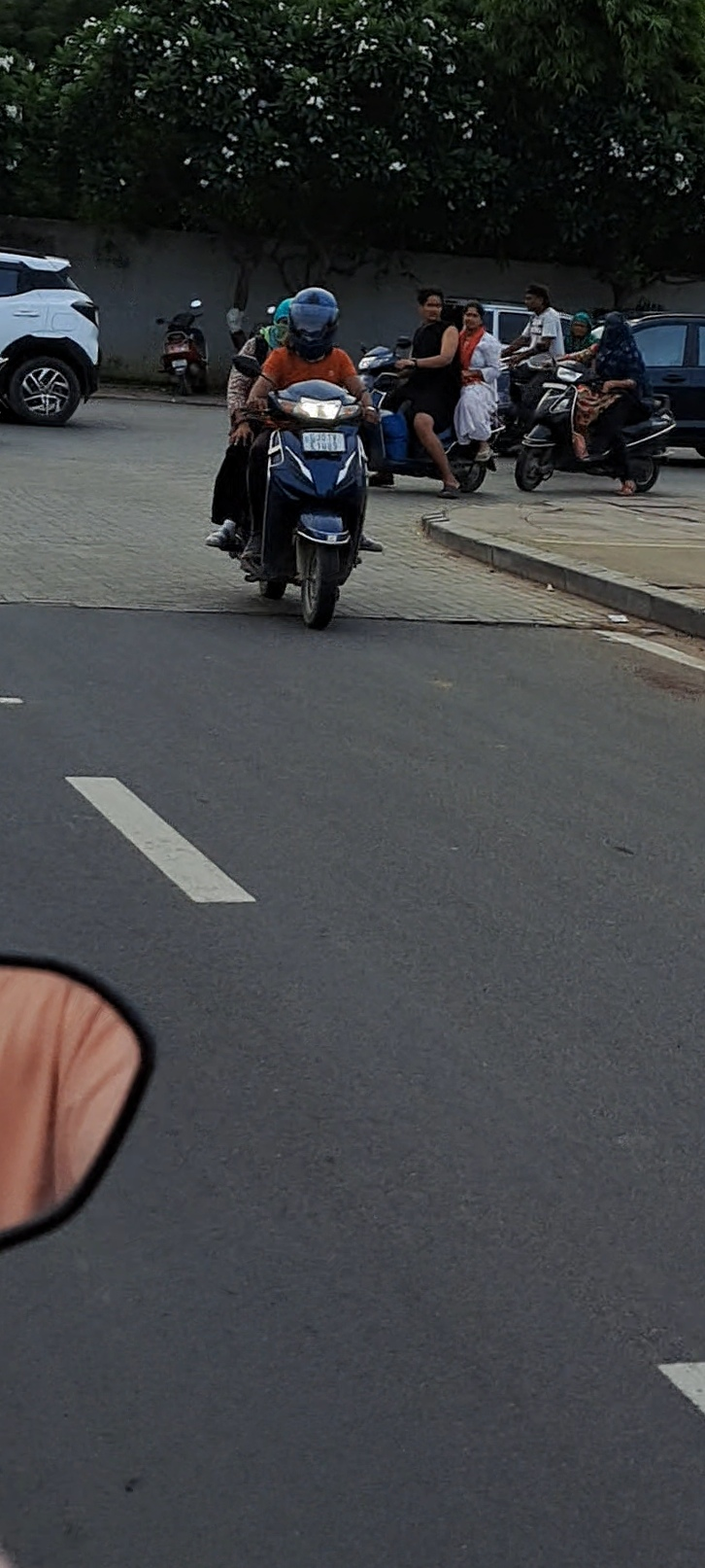BikeWithRider: (198, 281, 392, 644), (330, 287, 513, 499), (510, 303, 678, 495), (441, 281, 602, 448)
Helmet: (280, 290, 350, 357)
NoHelmet: (266, 296, 306, 354), (595, 305, 633, 339), (416, 284, 444, 328), (523, 282, 551, 317), (458, 301, 487, 331), (567, 306, 593, 338)
